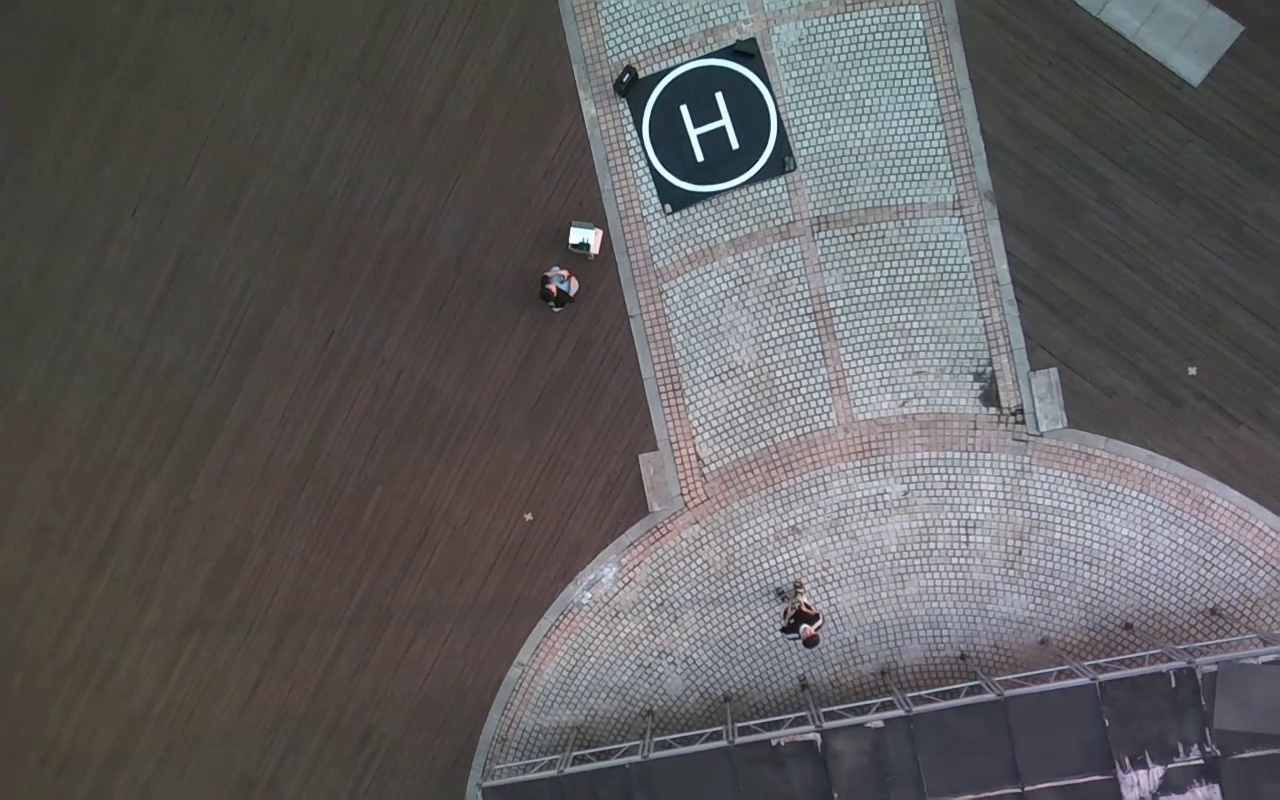H: (676, 90, 741, 162)
heliport: (642, 57, 779, 194)
